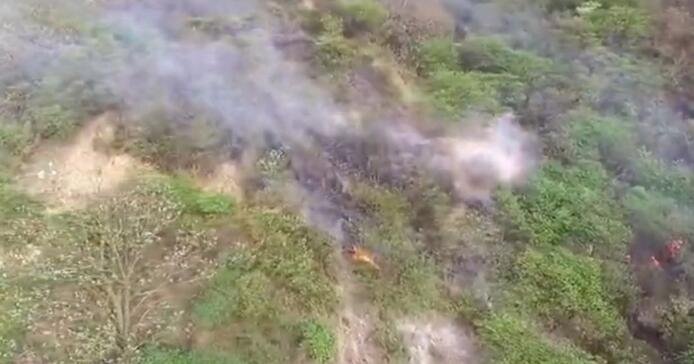yanwu: (1, 1, 523, 206)
